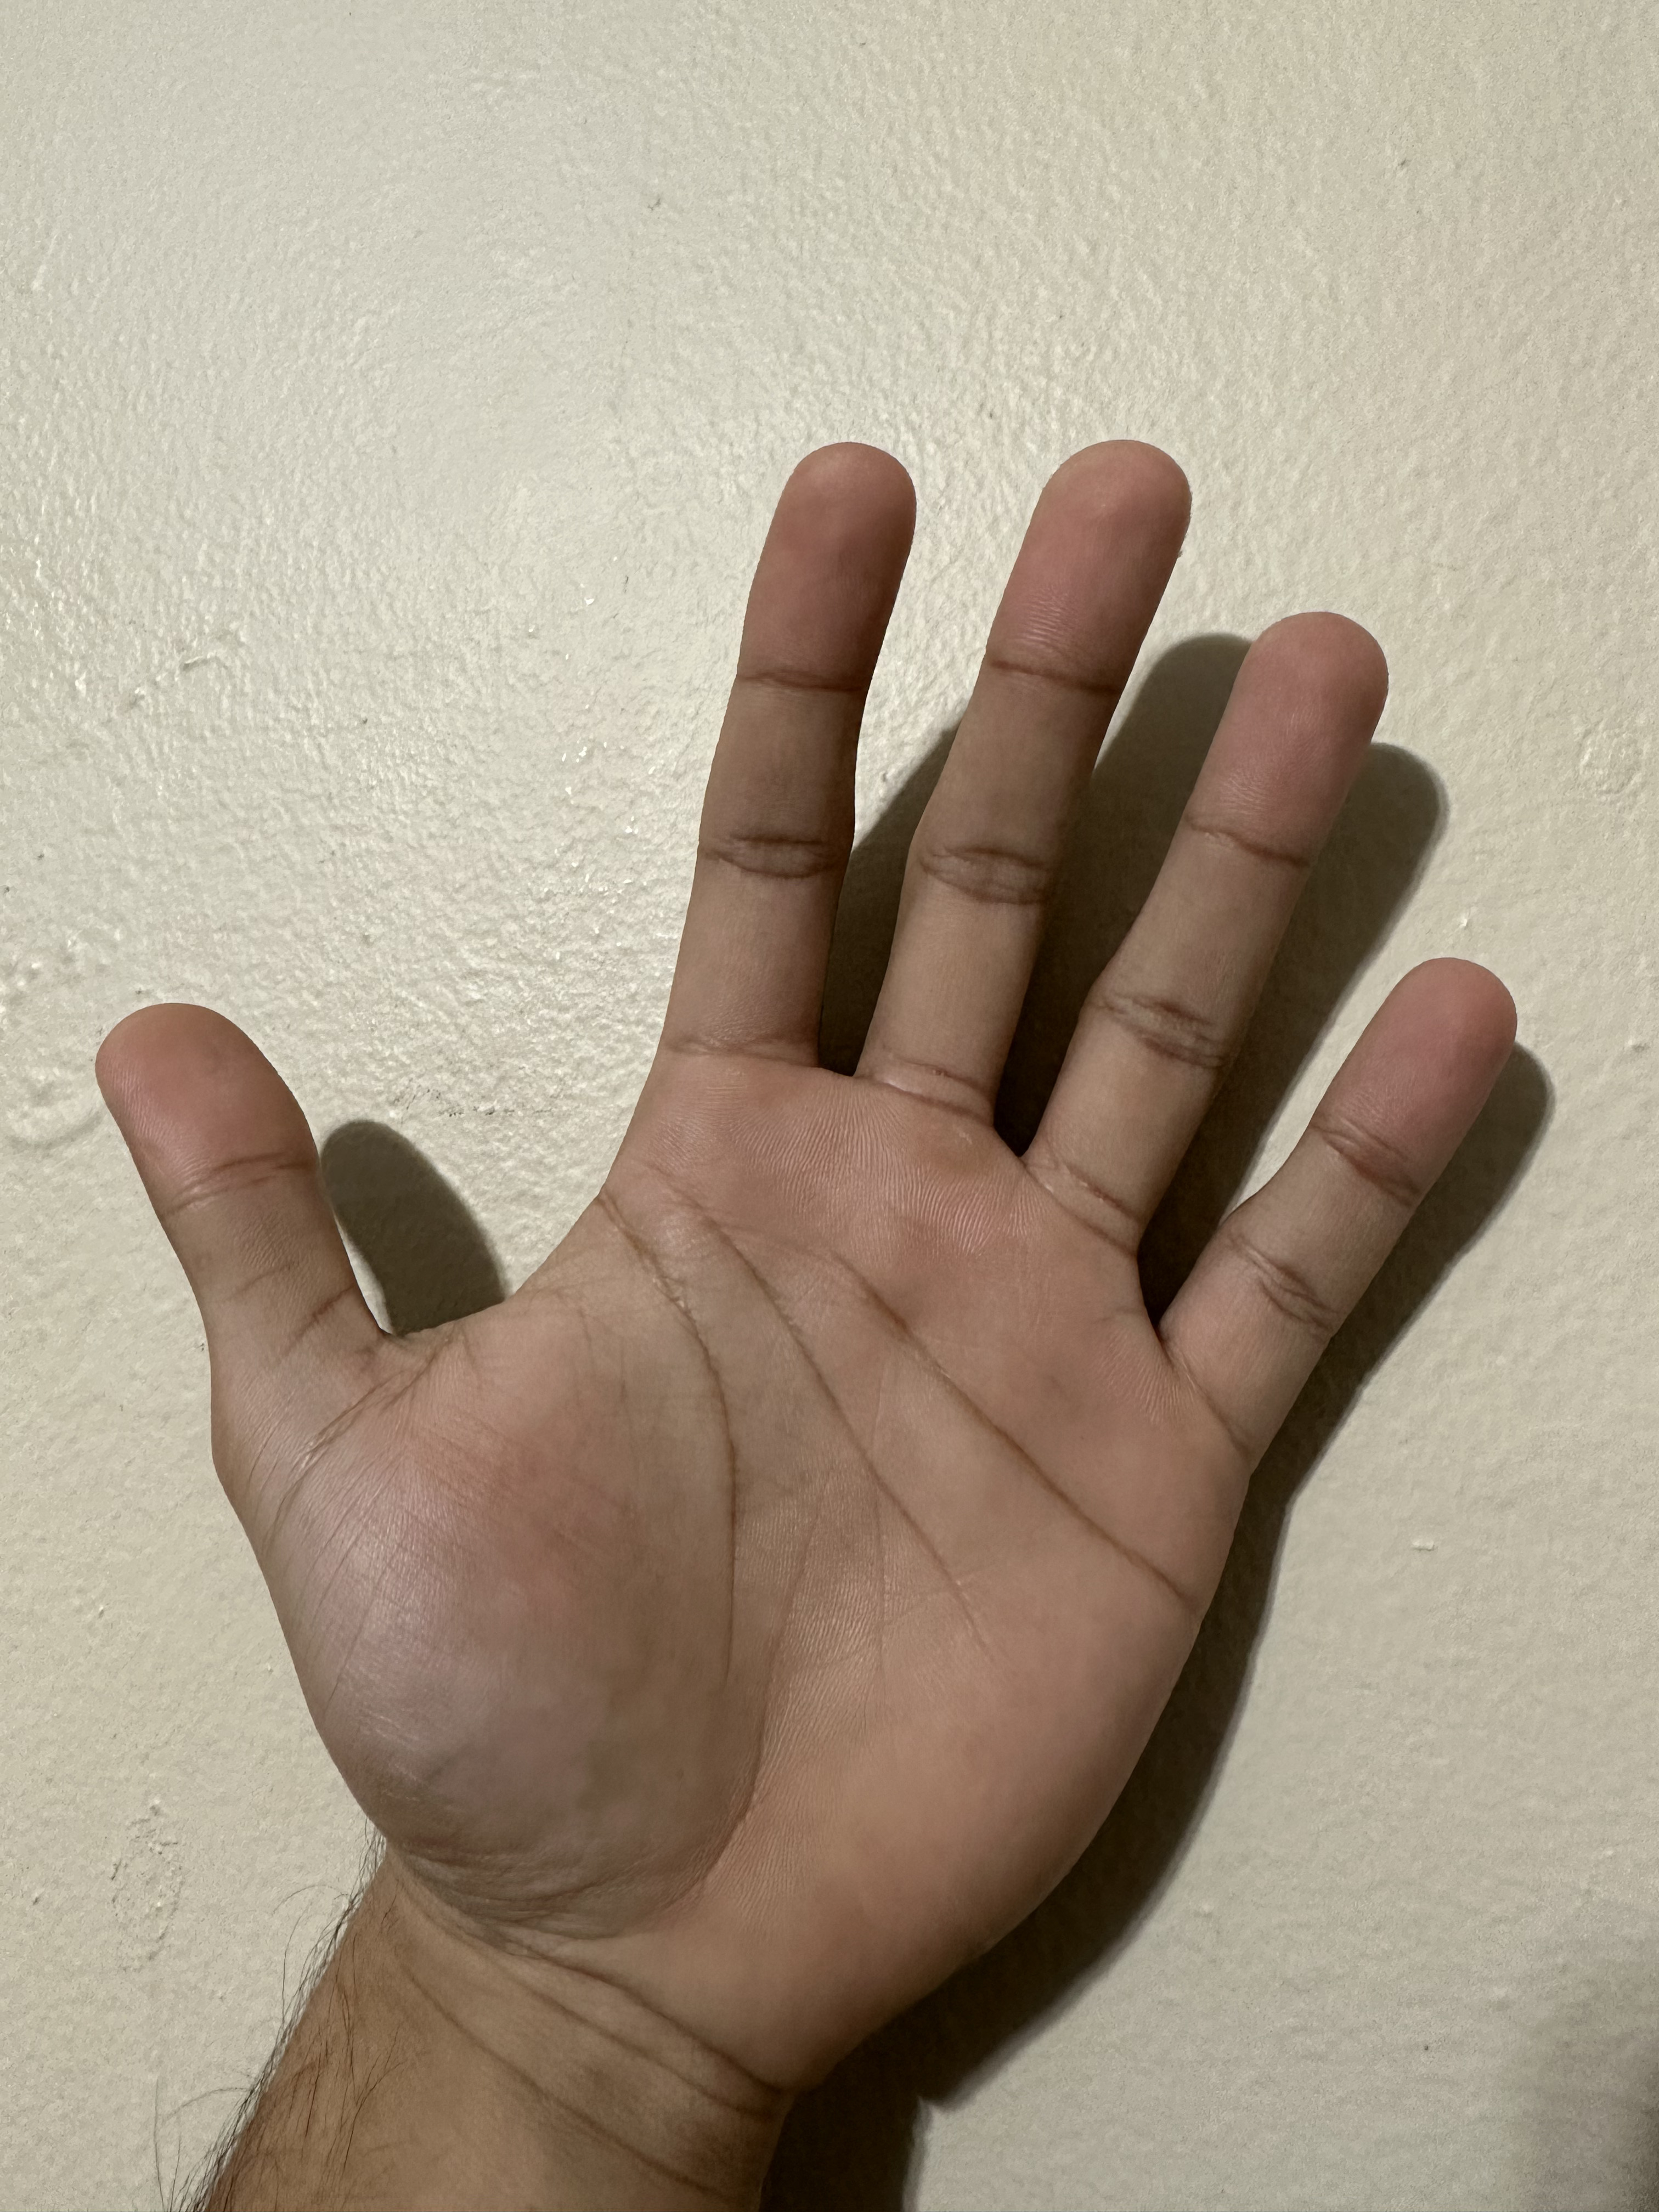finger: (56, 982, 331, 1212), (1000, 399, 1199, 695), (1345, 920, 1560, 1188), (1208, 563, 1406, 848), (734, 409, 939, 683)
